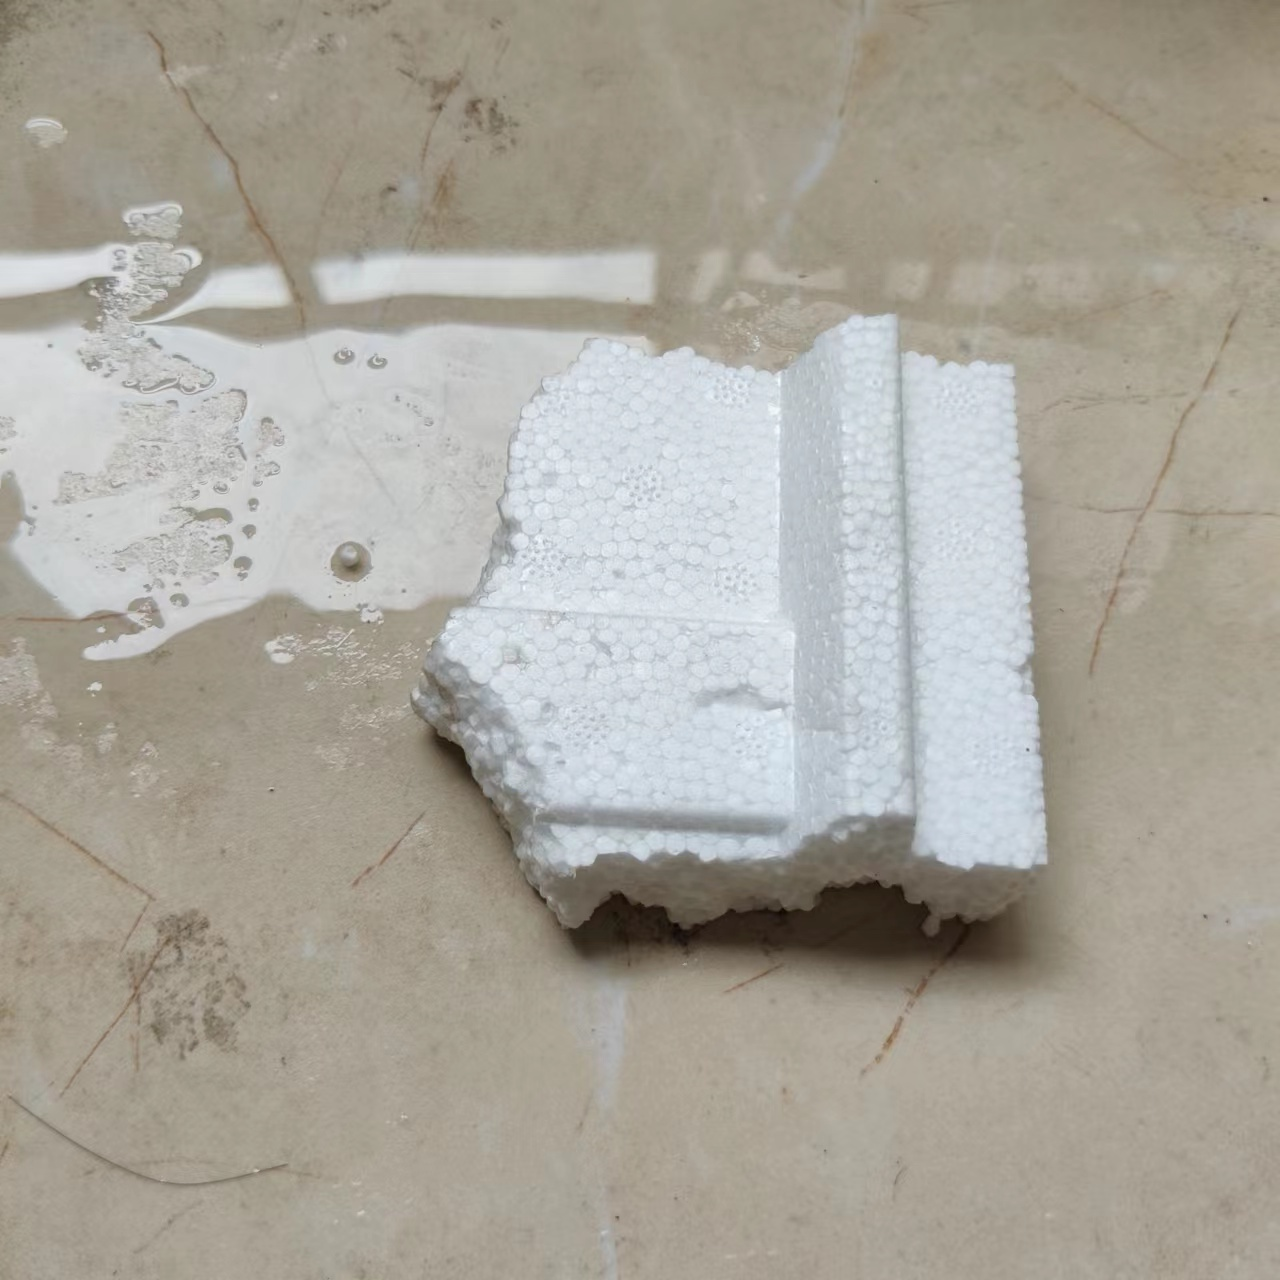5/可回收垃圾/泡沫: (411, 313, 1051, 942)
